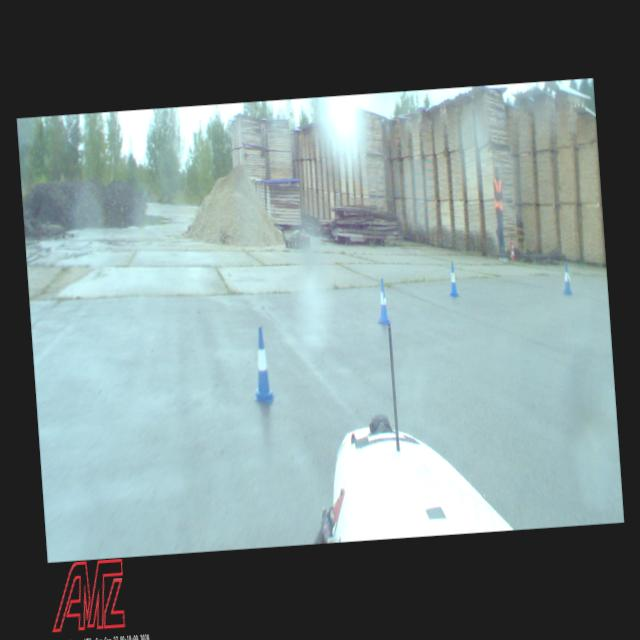blue_cone: (248, 324, 276, 403), (374, 278, 391, 324), (446, 261, 459, 297), (560, 261, 572, 295)
